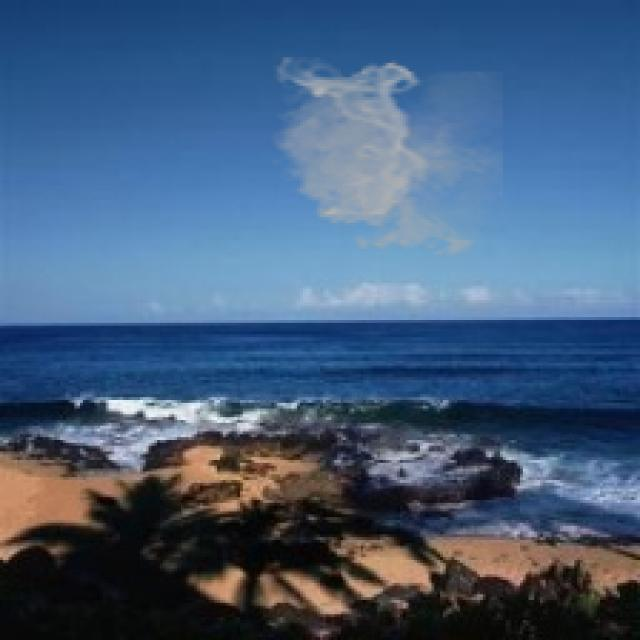smoke: (268, 57, 503, 263)
